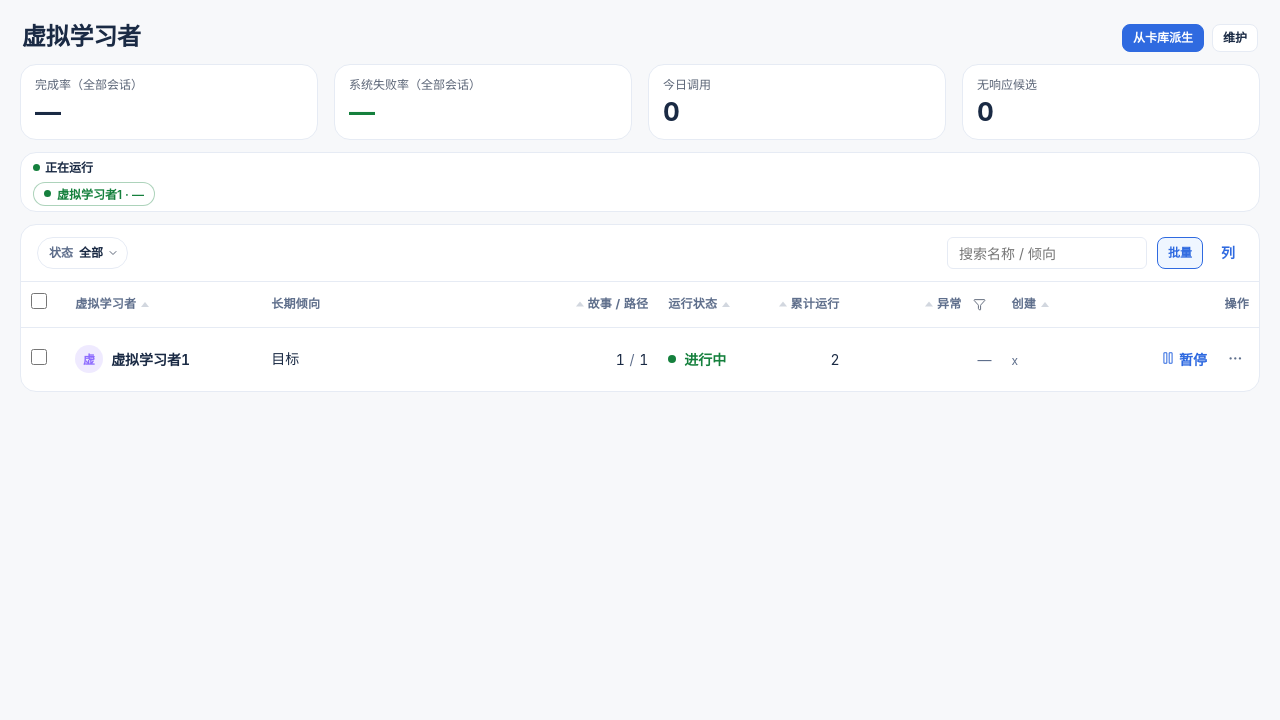
VirtualLearners 批量管理与生命周期视图 › 正在跑的行：主按钮是暂停，菜单里保留「再跑一次」的入口
Check: the button with class "mk-link" reads "暂停", box x1=1155 y1=344 x2=1213 y2=375
Click the button with class "mk-menu__btn": (1235, 359) x1=1221 y1=345 x2=1249 y2=373
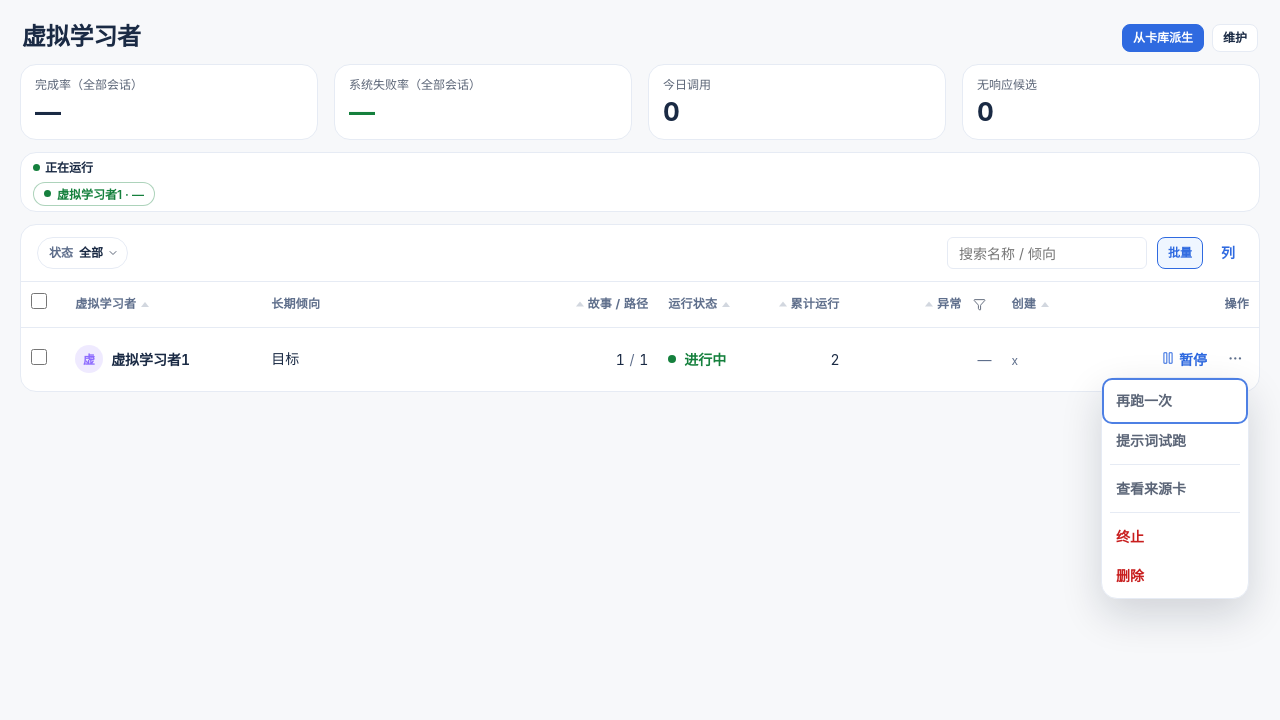
Check: the menu item with class "mk-menu__item" reads "再跑一次", box x1=1106 y1=382 x2=1244 y2=420
Check: the menu item with class "mk-menu__item" reads "提示词试跑", box x1=1106 y1=422 x2=1244 y2=459
Check: the menu item with class "mk-menu__item" reads "删除", box x1=1106 y1=557 x2=1244 y2=594
